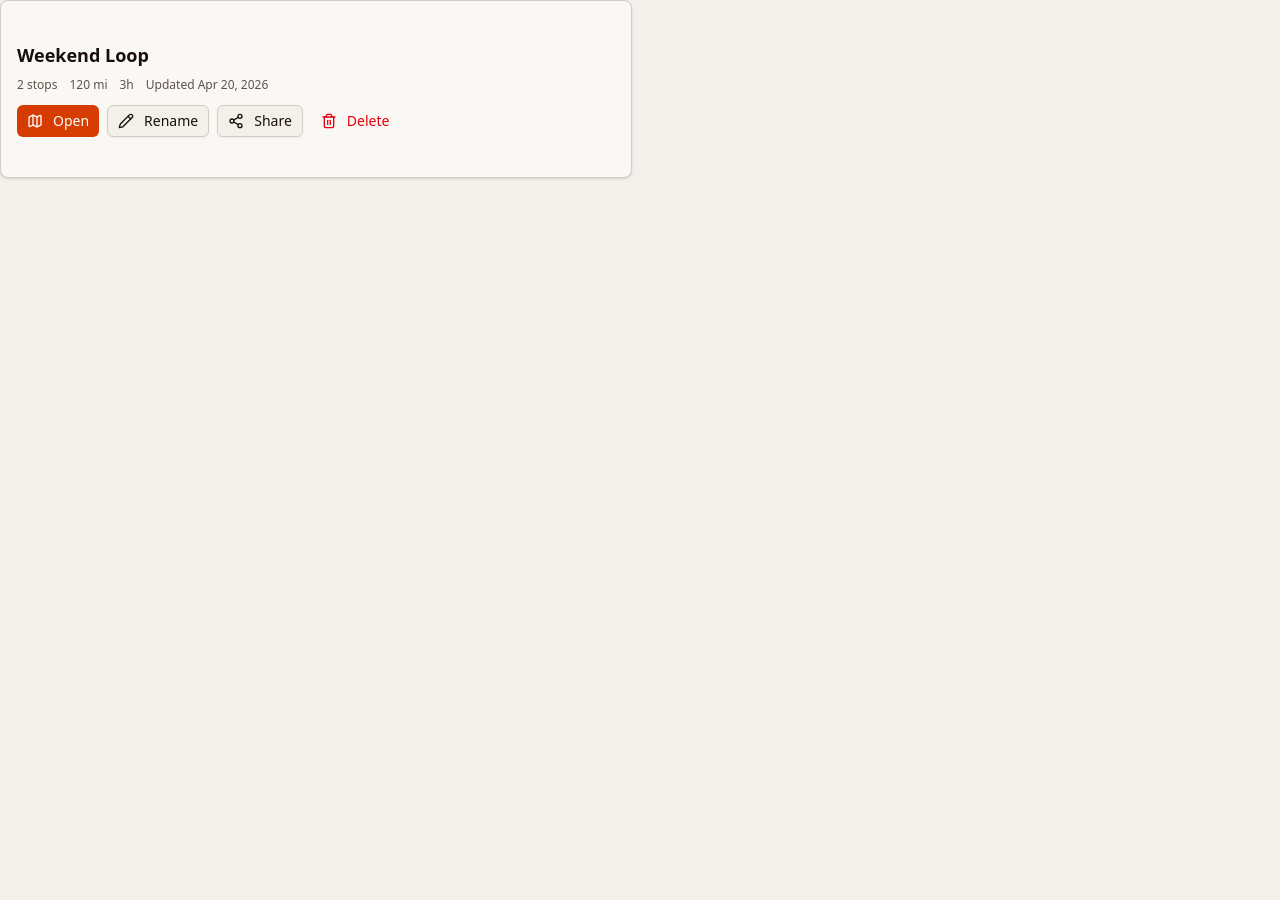
it: SavedRoutesList › PATCHes with the new title when Rename is confirmed
Click the button with aria-label "rename weekend loop": (158, 121) [107,105,209,137]
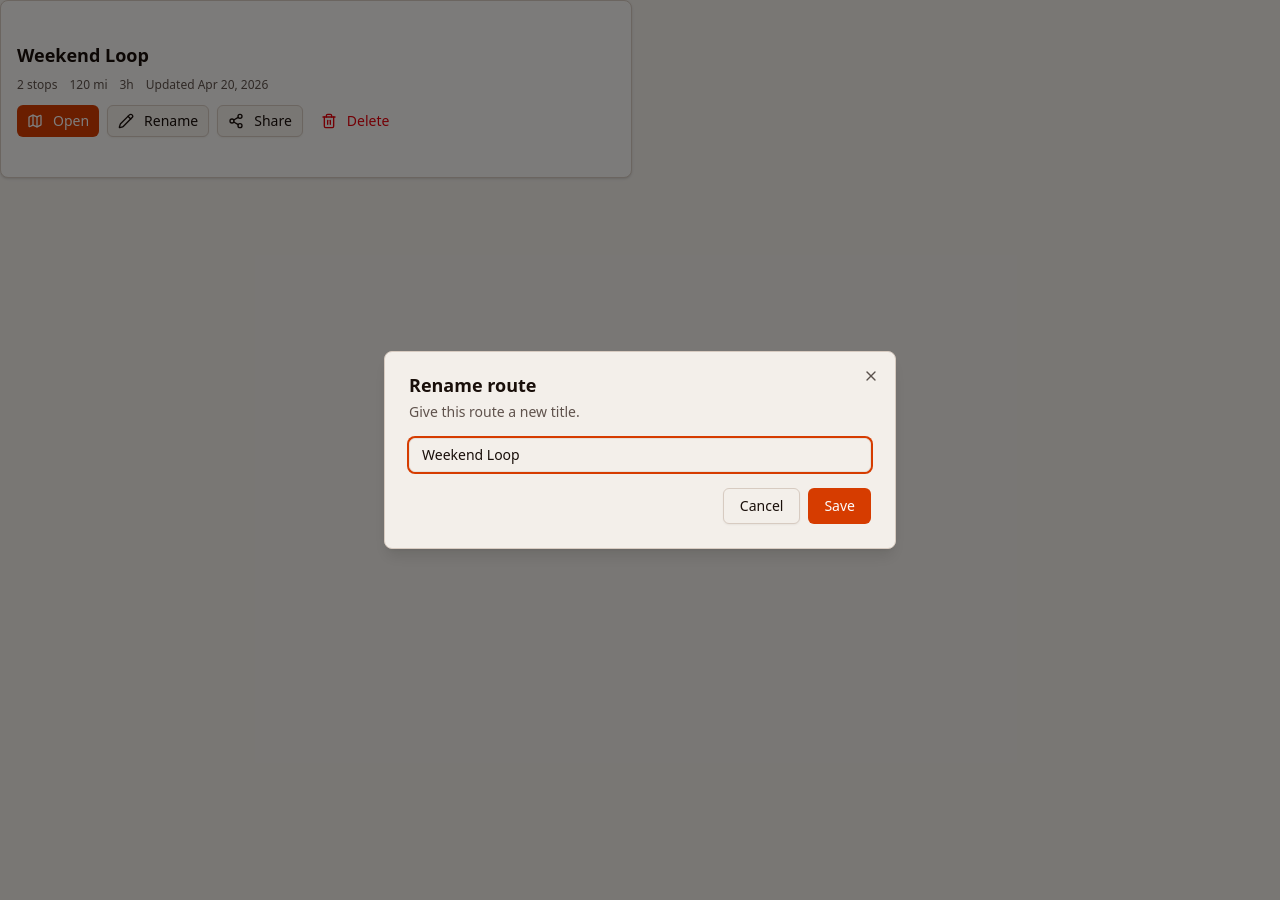
Replace the text in the field named "Route title" with "New Name": (640, 455) [409,438,871,472]
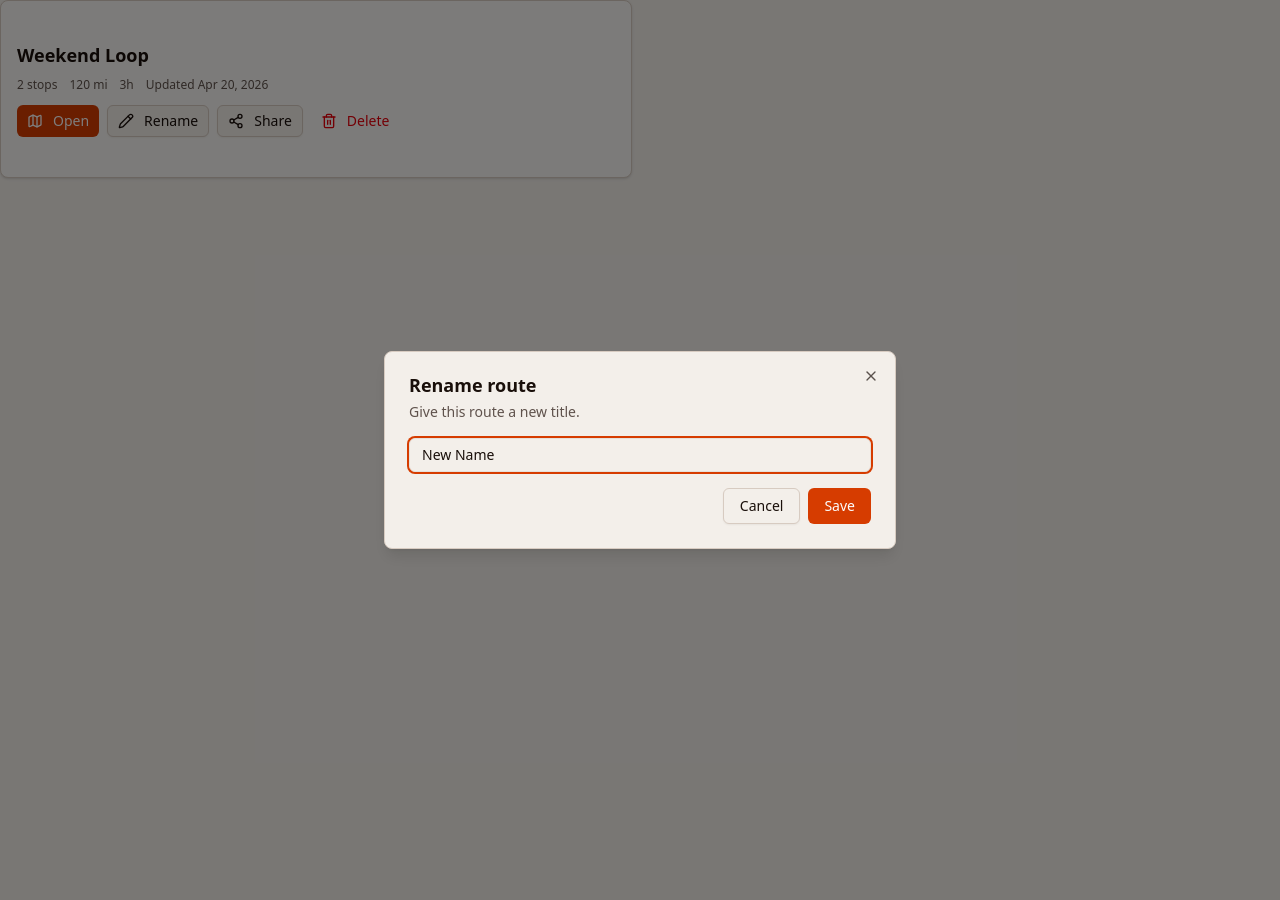
Click the button "Save": (840, 506) [808,488,871,524]
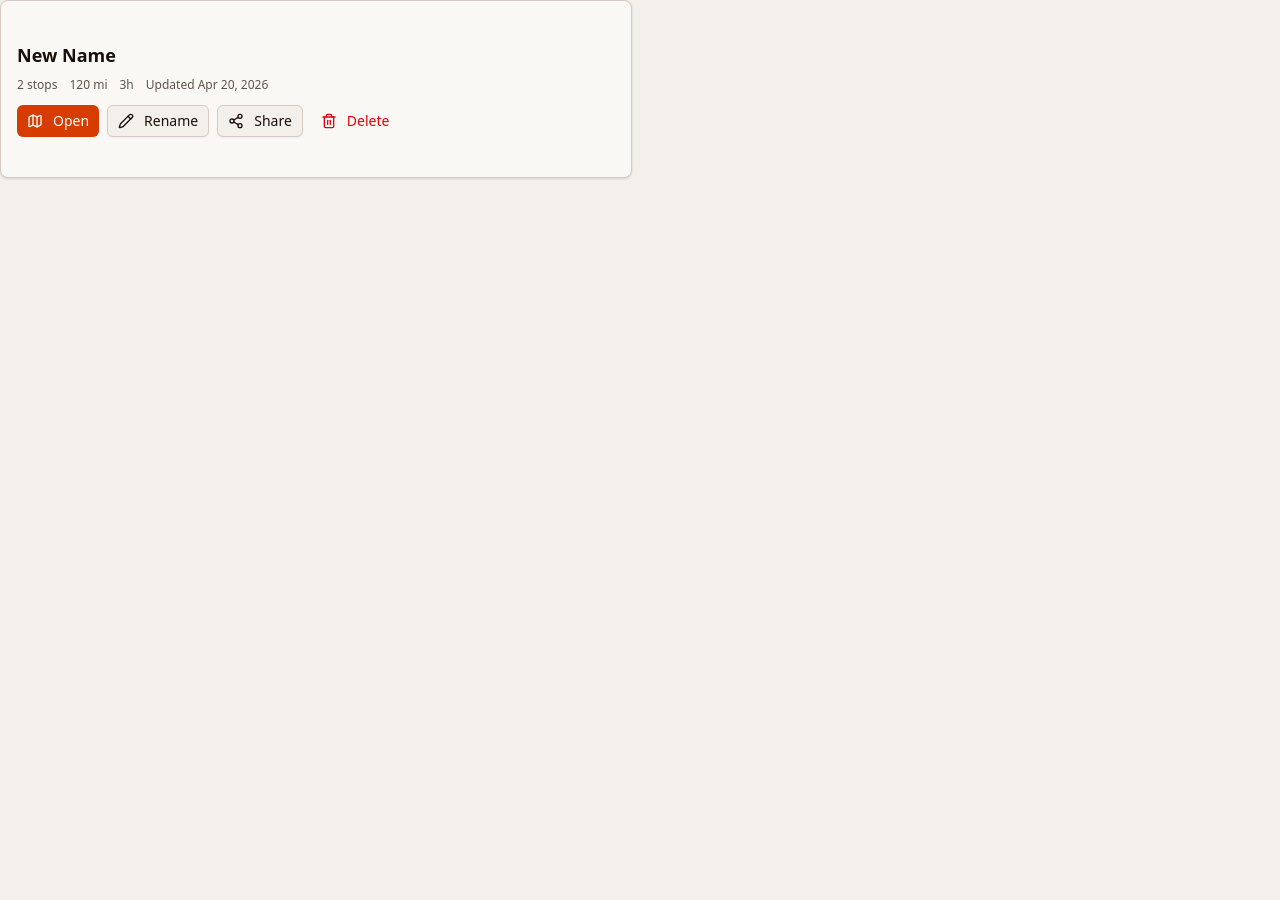
Check: the heading "New Name" is shown, box [17,43,116,67]
